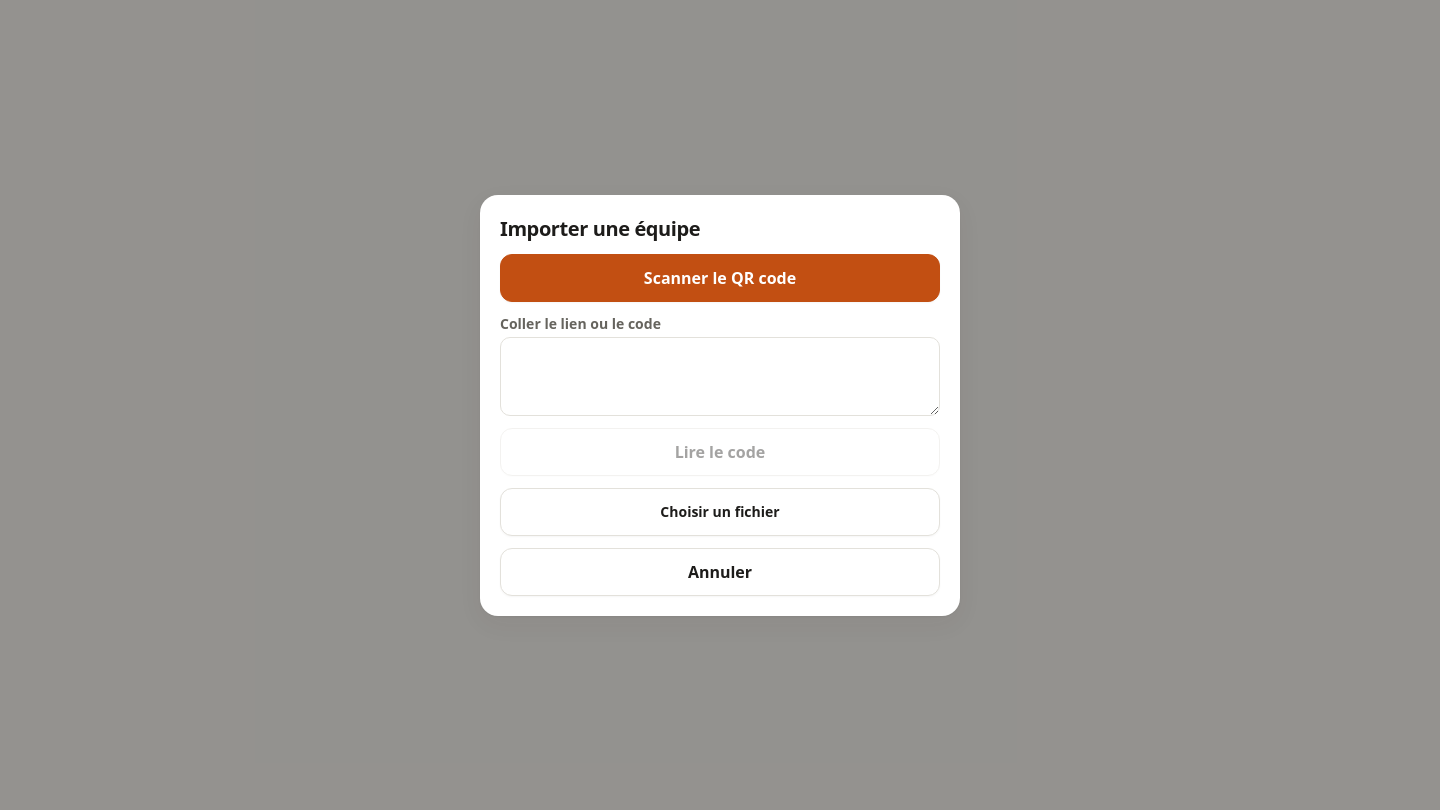
Scenario: ImportEquipe › explique un code non reconnu
The width and height of the screenshot is (1440, 810).
Step 1. Type "Voici notre équipe" into the text box labelled "Coller le lien ou le code" → coordinates (720, 376), box [500,336,940,416]
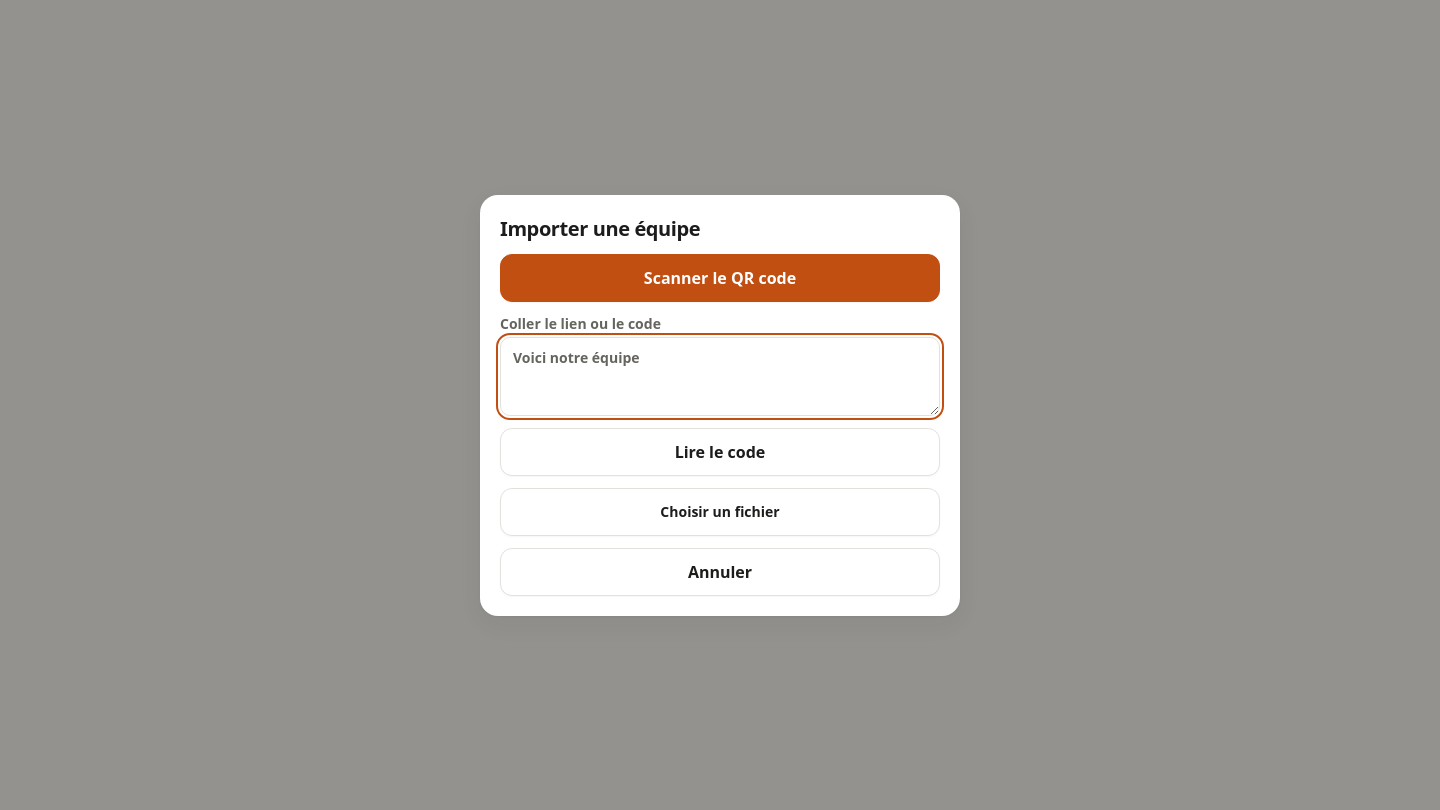
Step 2. Click the button "Lire le code" → coordinates (720, 452), box [500,428,940,476]
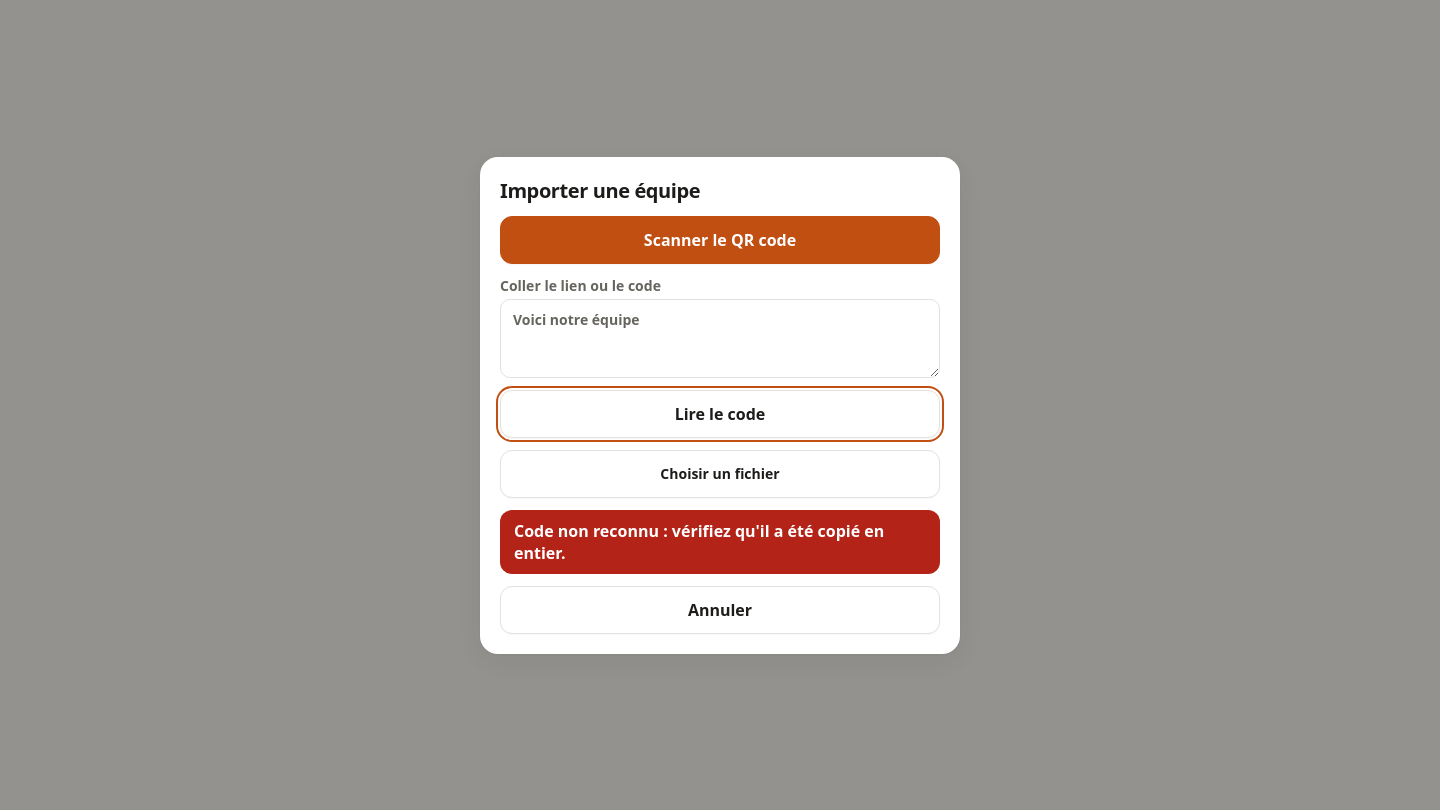
Check: the message shows "Code non reconnu", box [514,520,884,564]
